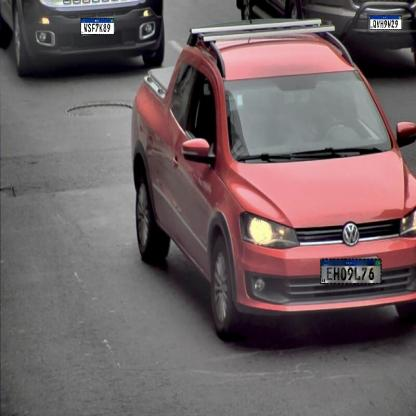PlacaM: (320, 259, 382, 284), (80, 18, 115, 35), (370, 15, 402, 30)
